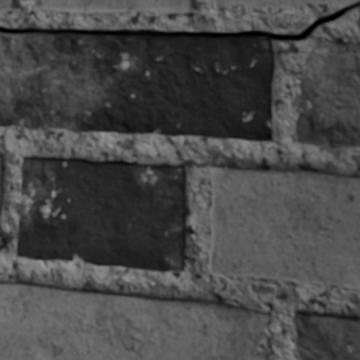brick: (0, 32, 272, 140), (0, 281, 270, 359), (17, 157, 185, 270), (207, 165, 359, 288), (295, 39, 359, 148), (292, 310, 359, 359), (33, 0, 191, 12), (0, 0, 14, 11), (0, 156, 2, 212)
broken_brick: (213, 0, 359, 8)
crack: (0, 1, 359, 40)
